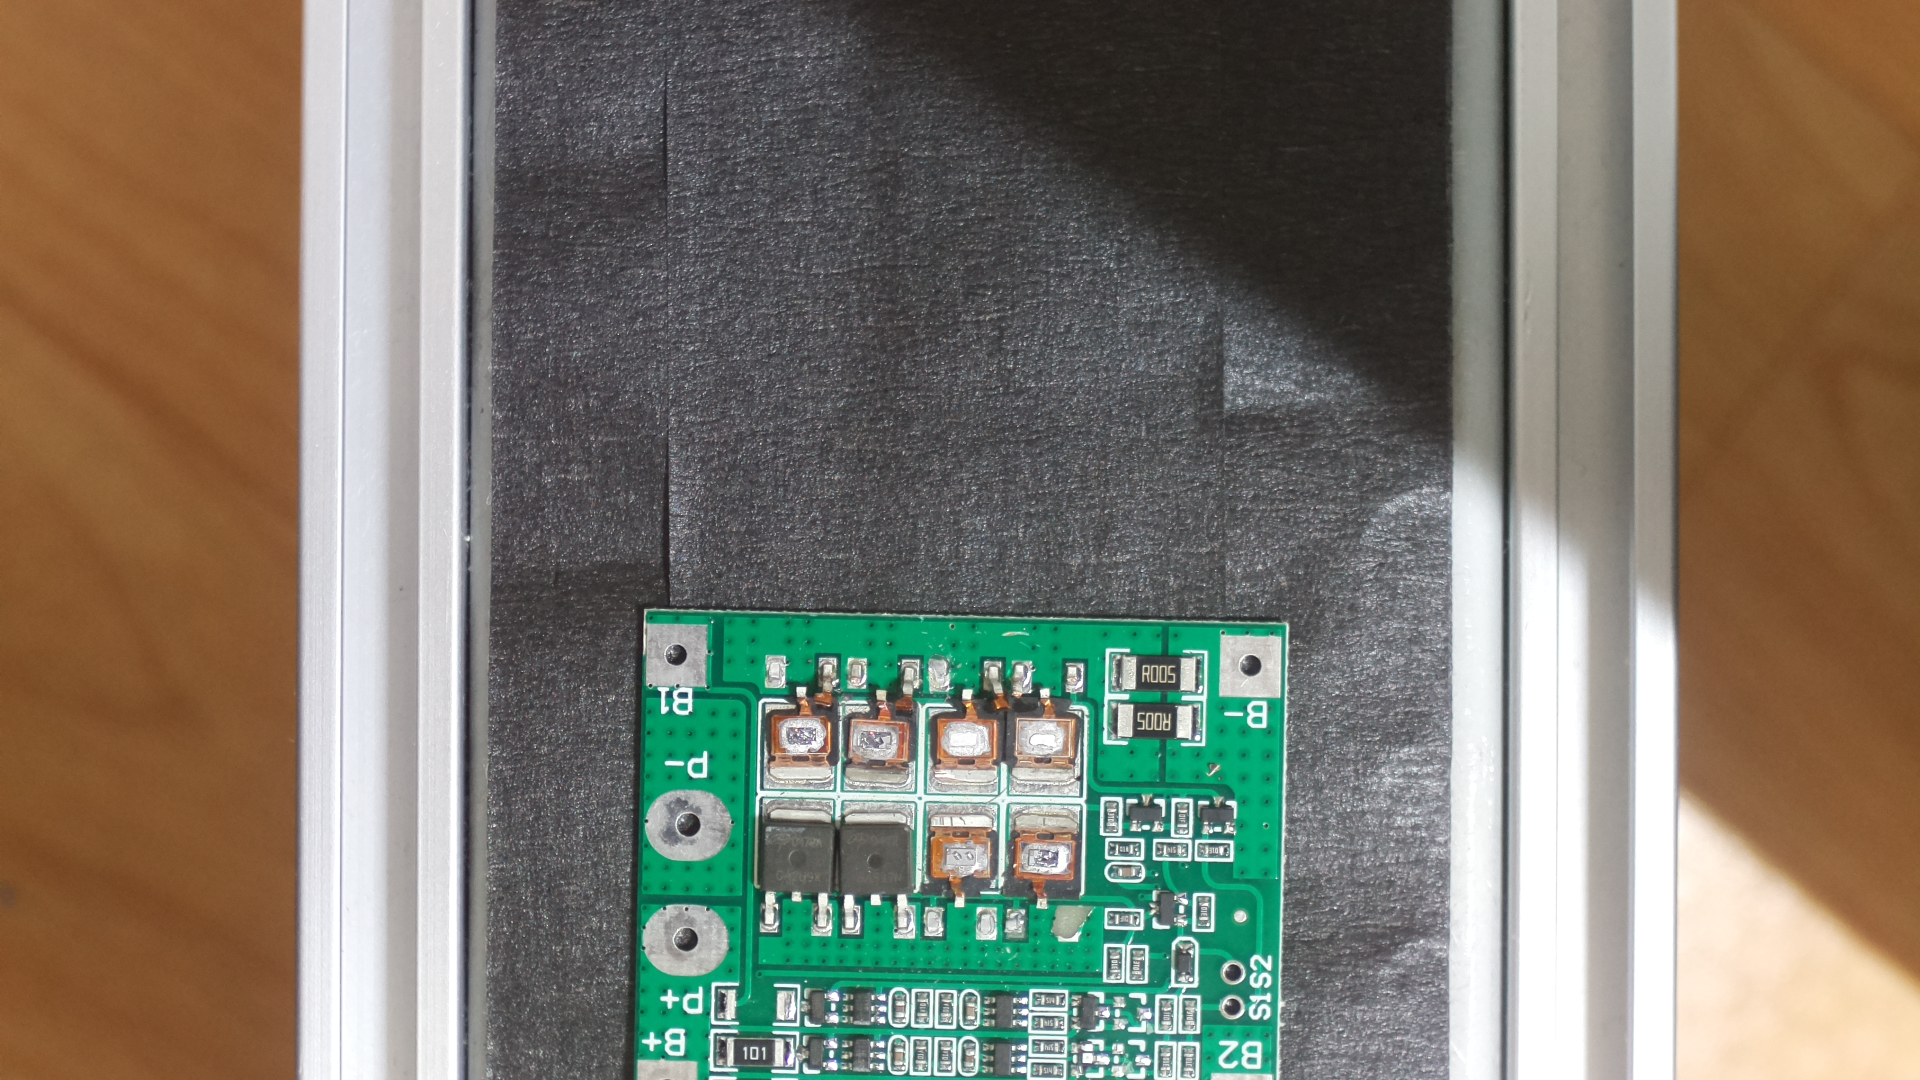C_Missing_part: (620, 583, 1319, 1080)
